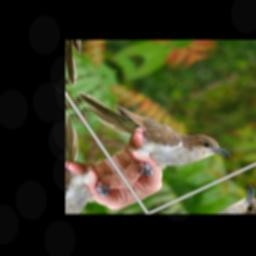Cuckoo: (75, 53, 232, 197)
